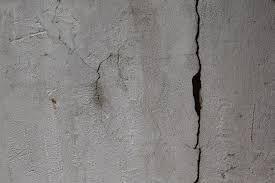crack: (190, 0, 202, 182)
